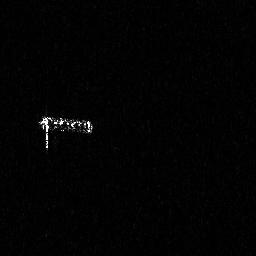ship: (37, 114, 96, 153)
